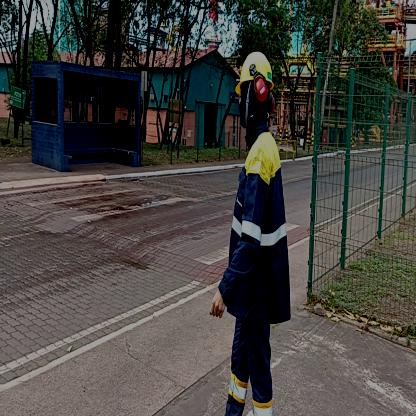Balaclava: (239, 84, 268, 128)
C_eletrica: (218, 133, 294, 331)
Capacete: (234, 46, 274, 84)
